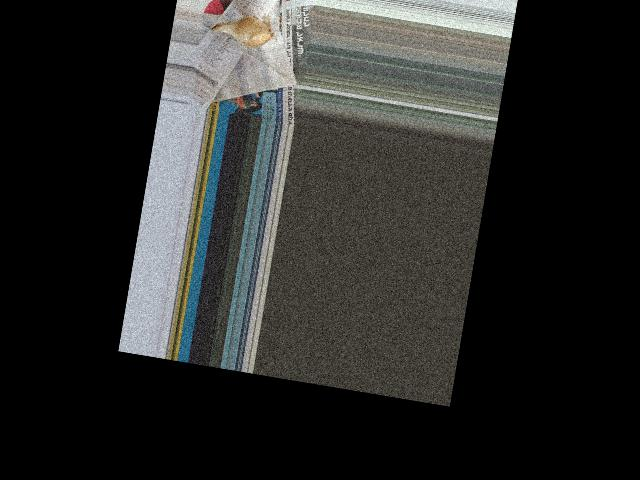onion: (228, 12, 270, 50)
